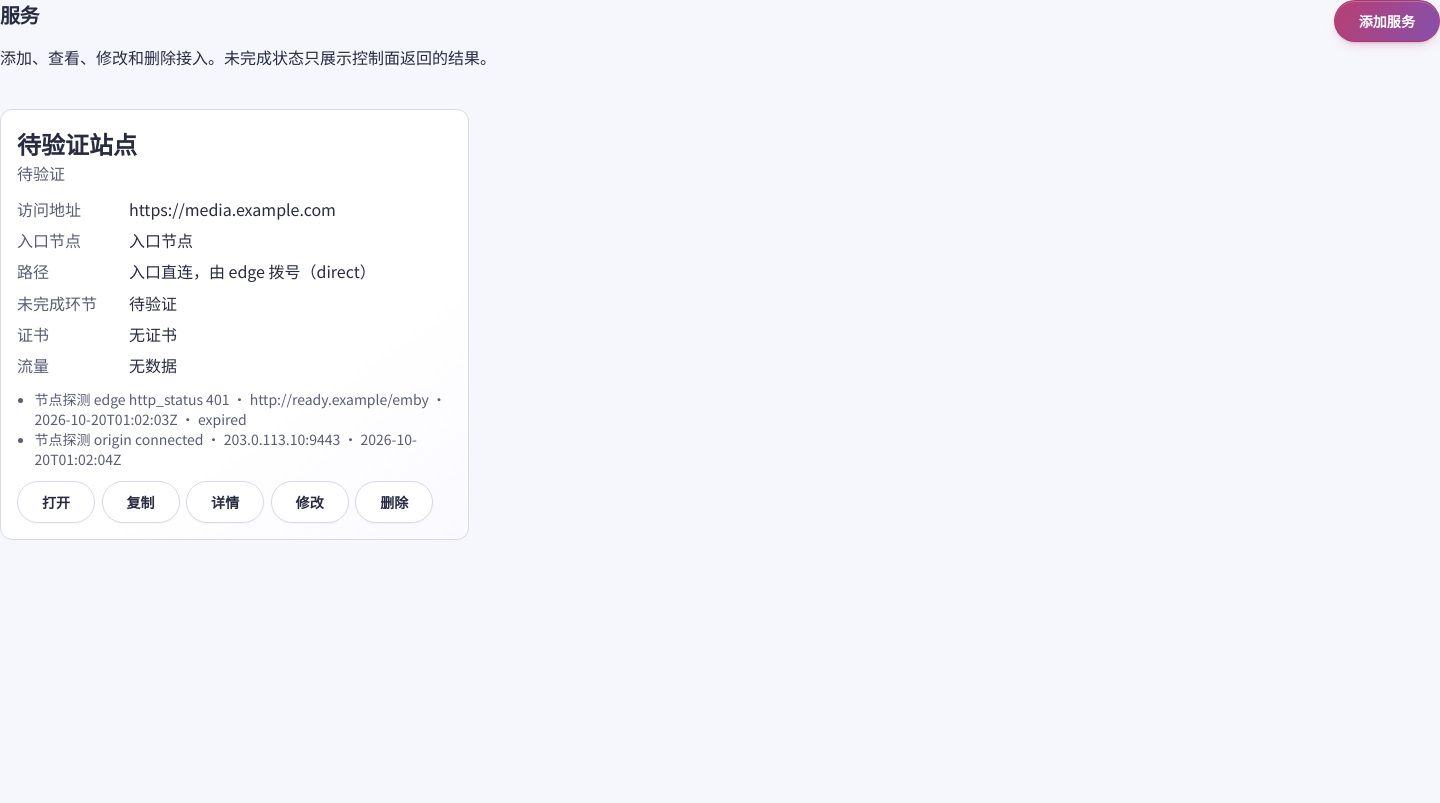
Test: service page › renders a saved probe and 待验证 when the control plane marks it expired
This screenshot has width=1440, height=803.
Expected: the text with test id "service-summary" reads "待验证", [17, 161, 65, 185]
Expected: the list item with test id "service-probe" shows "http_status 401", [35, 389, 233, 409]
What coordinates should you click on to do the following:
click the button "详情"
I would click on:
 (225, 502)
Its box is [186, 481, 264, 523].
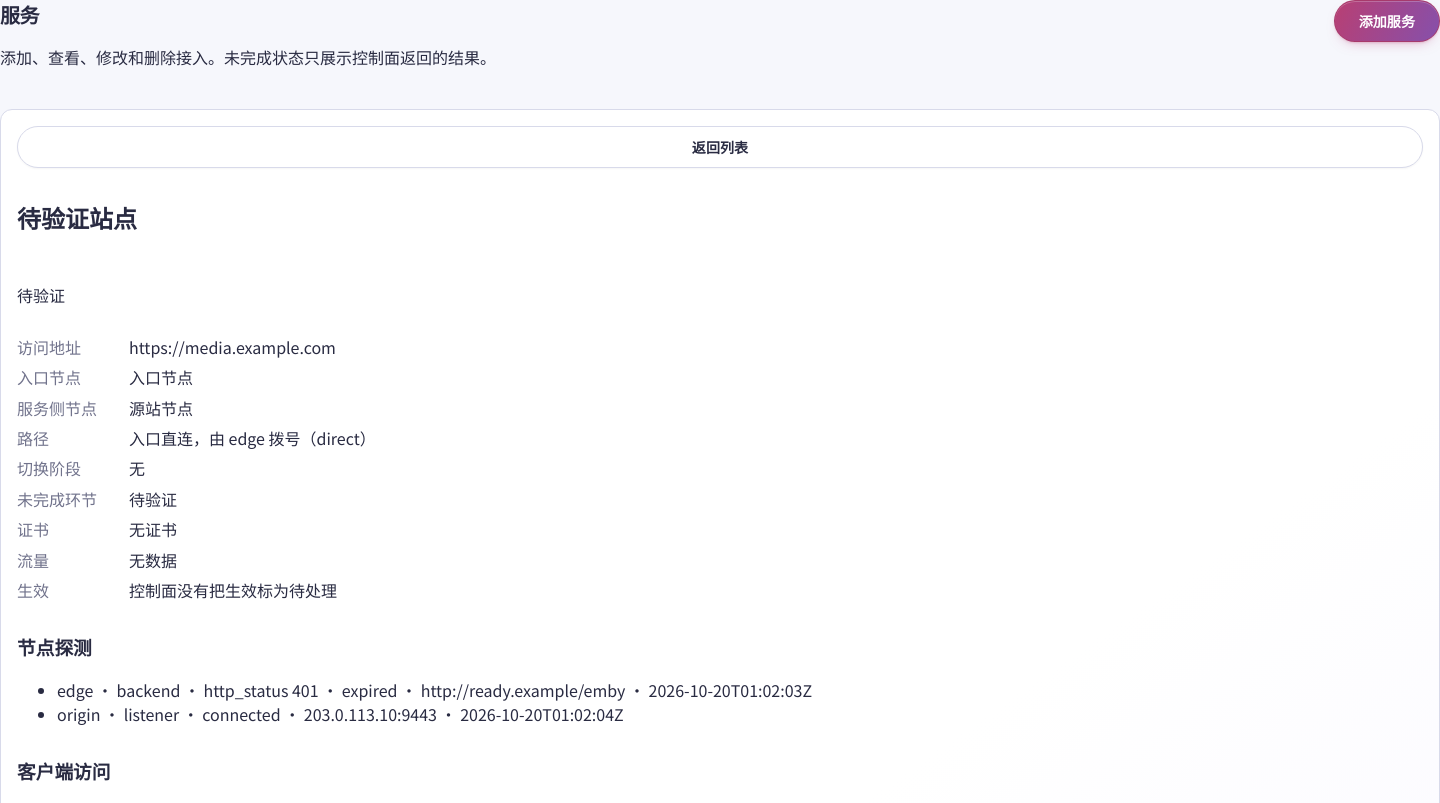
Expected: the list item with test id "probe-row" shows "http_status 401", [180, 678, 322, 702]
Expected: the list item with test id "probe-row" shows "expired", [322, 678, 398, 702]
Expected: the list item with test id "probe-row" shows "http://ready.example/emby", [398, 678, 625, 702]
